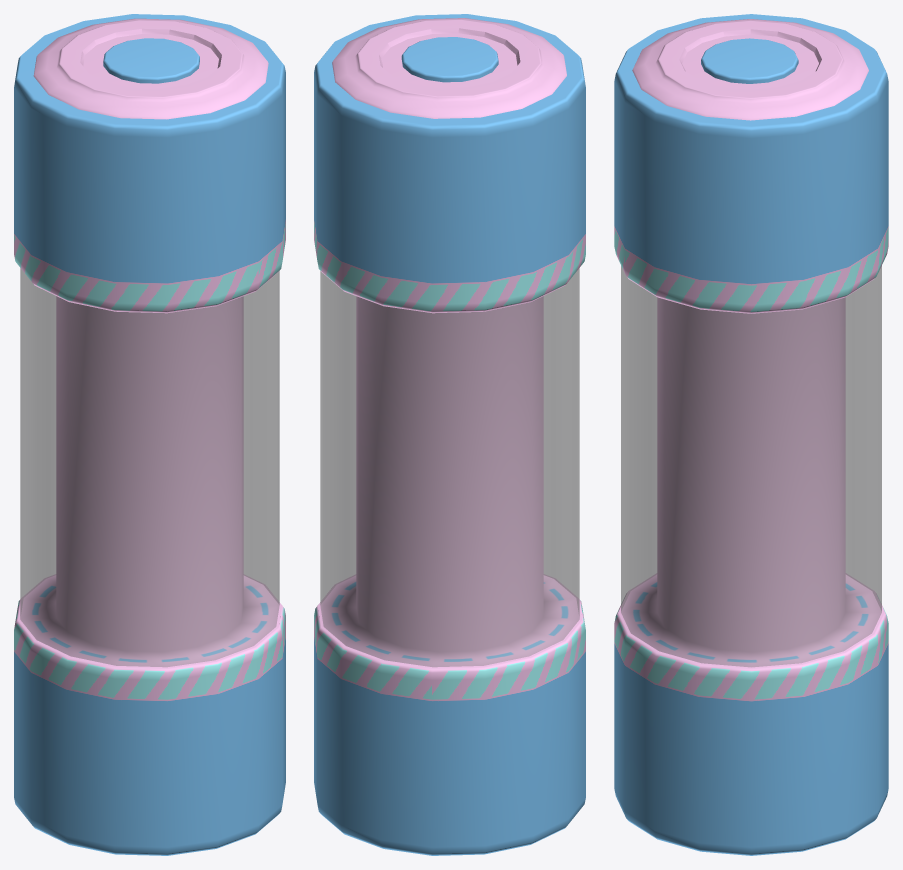
Rendered from MEC0110027.fbx.
The picture shows the model from 3 angles, left to right: view 1: azimuth 30°, elevation 25°; view 2: azimuth 150°, elevation 25°; view 3: azimuth 270°, elevation 25°; orthographic projection.
Parts seen in each view (by area): view 1: smMEC0110027; view 2: smMEC0110027; view 3: smMEC0110027.
Part boxes in pixels (<box>): smMEC0110027: <box>14,14,285,855</box>; smMEC0110027: <box>314,14,585,855</box>; smMEC0110027: <box>614,14,888,855</box>.
Size of the model in its own units: 119 by 362 by 119.
Materials: 2 (1 with a texture image).
